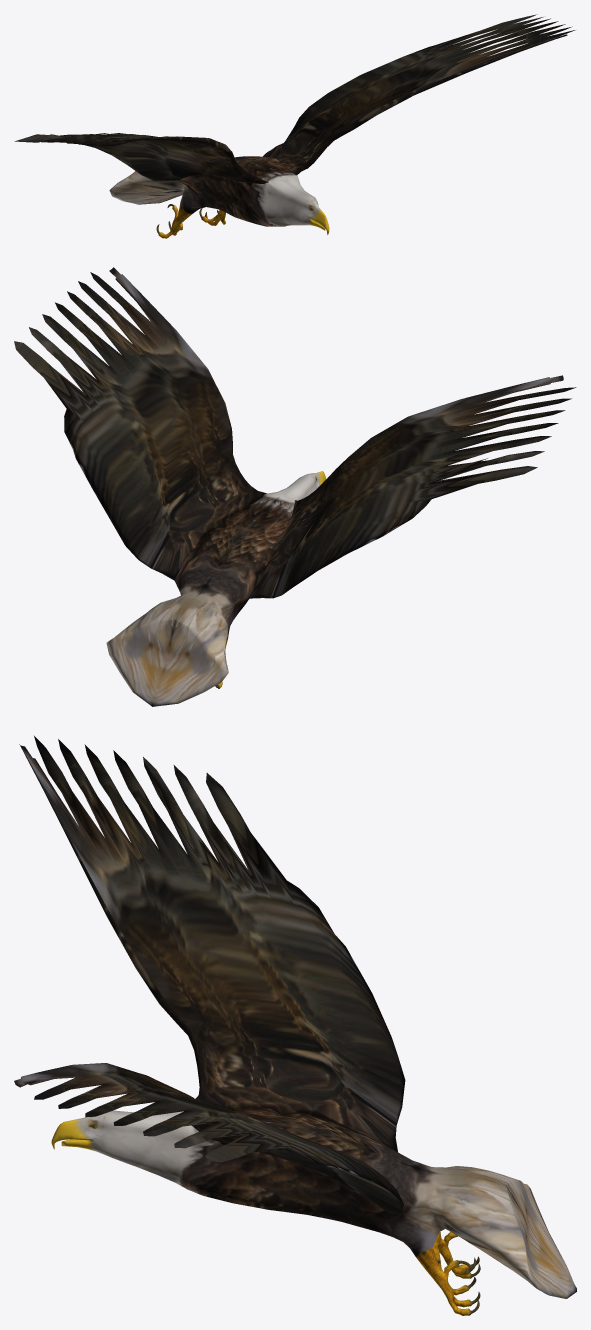
The model's file is Eagle-original_000017.obj.
The picture shows the model from 3 angles, top to bottom: view 1: azimuth 30°, elevation 25°; view 2: azimuth 150°, elevation 25°; view 3: azimuth 270°, elevation 25°; orthographic projection. The views are drawn at different scales.
Parts seen in each view (by area): view 1: Flugel_Plane.003; view 2: Flugel_Plane.003; view 3: Flugel_Plane.003.
Part boxes in pixels (x1,y1,x2,y2): Flugel_Plane.003: (14,14,575,238); Flugel_Plane.003: (14,267,576,706); Flugel_Plane.003: (14,736,576,1315).
Size of the model in its own units: 10.08 by 4.65 by 6.2.
1 material, 1 textured.
